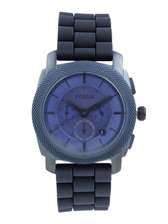watch: (28, 12, 146, 213)
